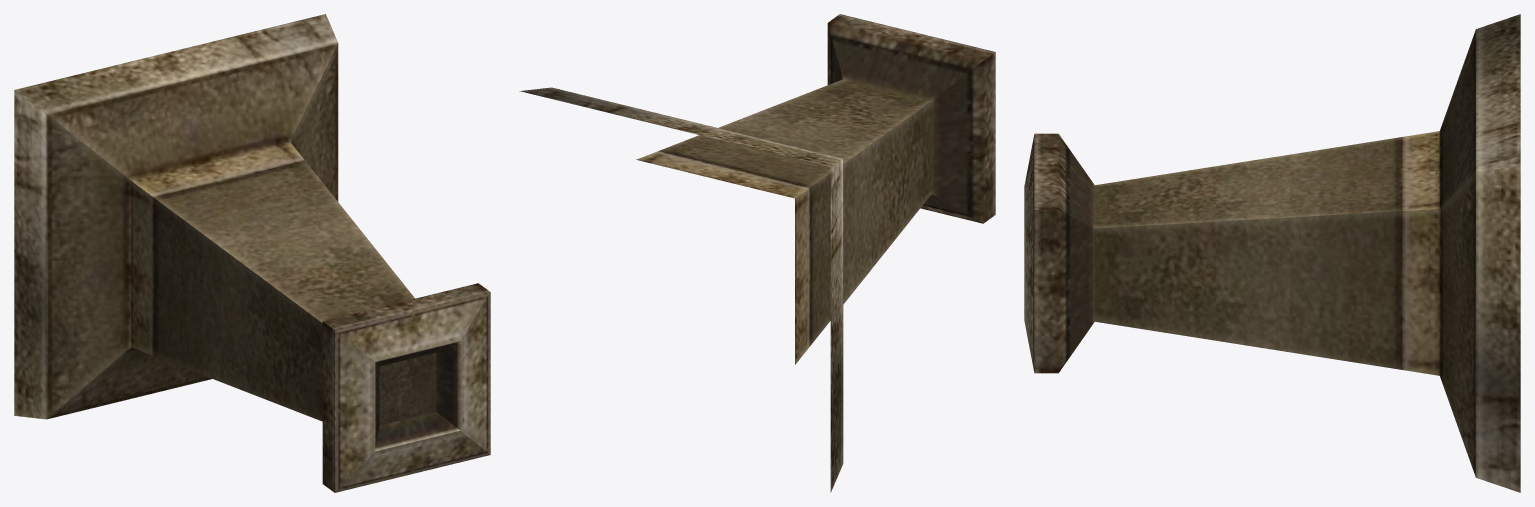
3 renders of one model, left to right at view 1: azimuth 30°, elevation 25°; view 2: azimuth 150°, elevation 25°; view 3: azimuth 270°, elevation 25°, orthographic.
Visible parts, largest first — view 1: model_Object73; view 2: model_Object73; view 3: model_Object73.
Boxes of the visible parts, x1,y1,x2,y2 form: model_Object73: (14,14,490,492); model_Object73: (519,14,995,492); model_Object73: (1024,14,1520,492).
Bounding box in the file's own units: 1.41 × 1.41 × 1.95.
Materials: 1 (1 with a texture image).
